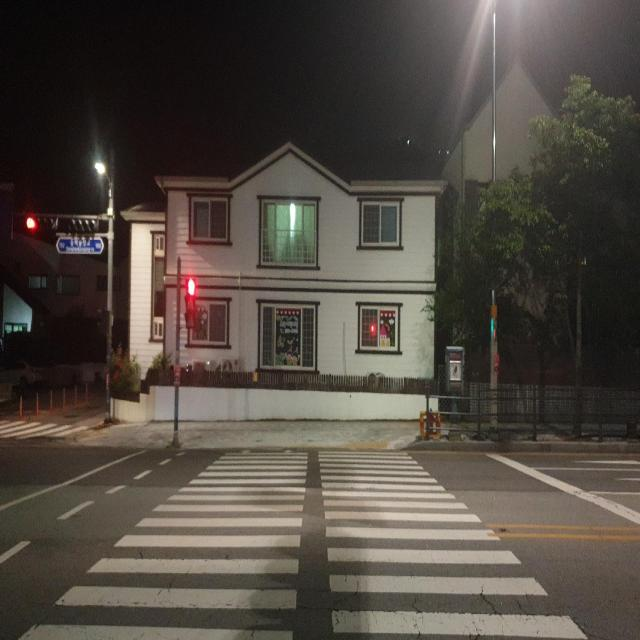빨간불: (185, 280, 197, 330)
횡단보도: (15, 442, 590, 640)
